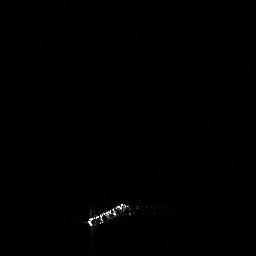ship: (85, 201, 130, 229)
